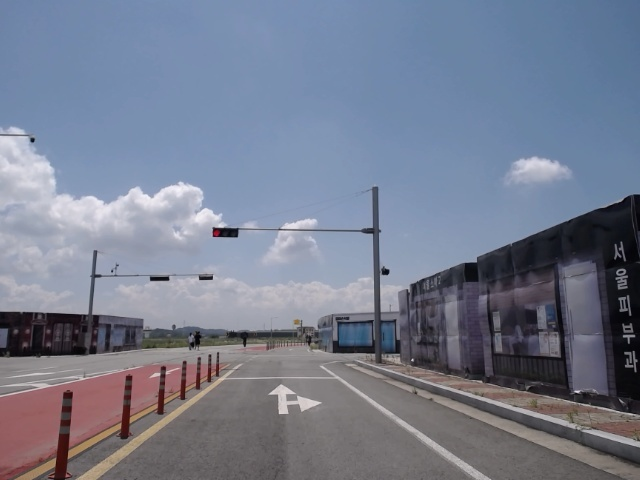red_3: (212, 227, 240, 240)
